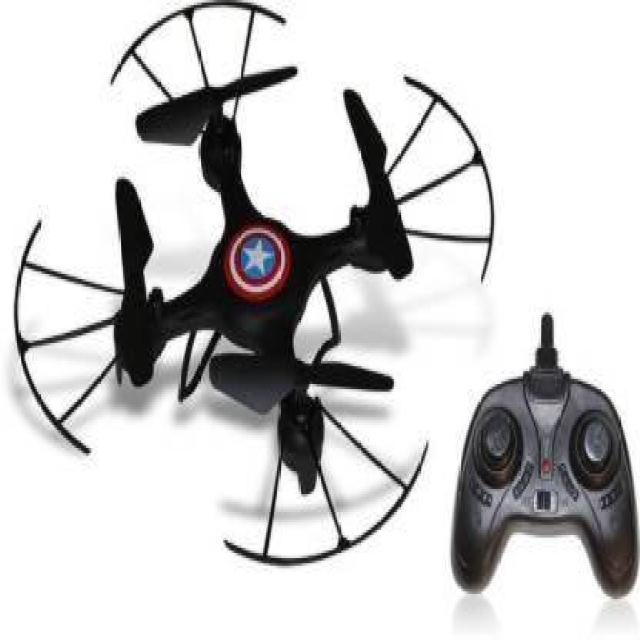drone: (0, 21, 455, 566)
